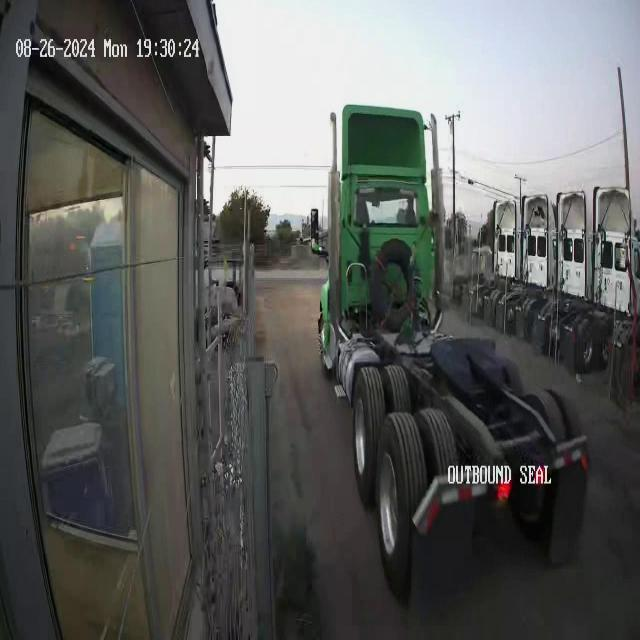BOBTAIL: (309, 101, 591, 600)
